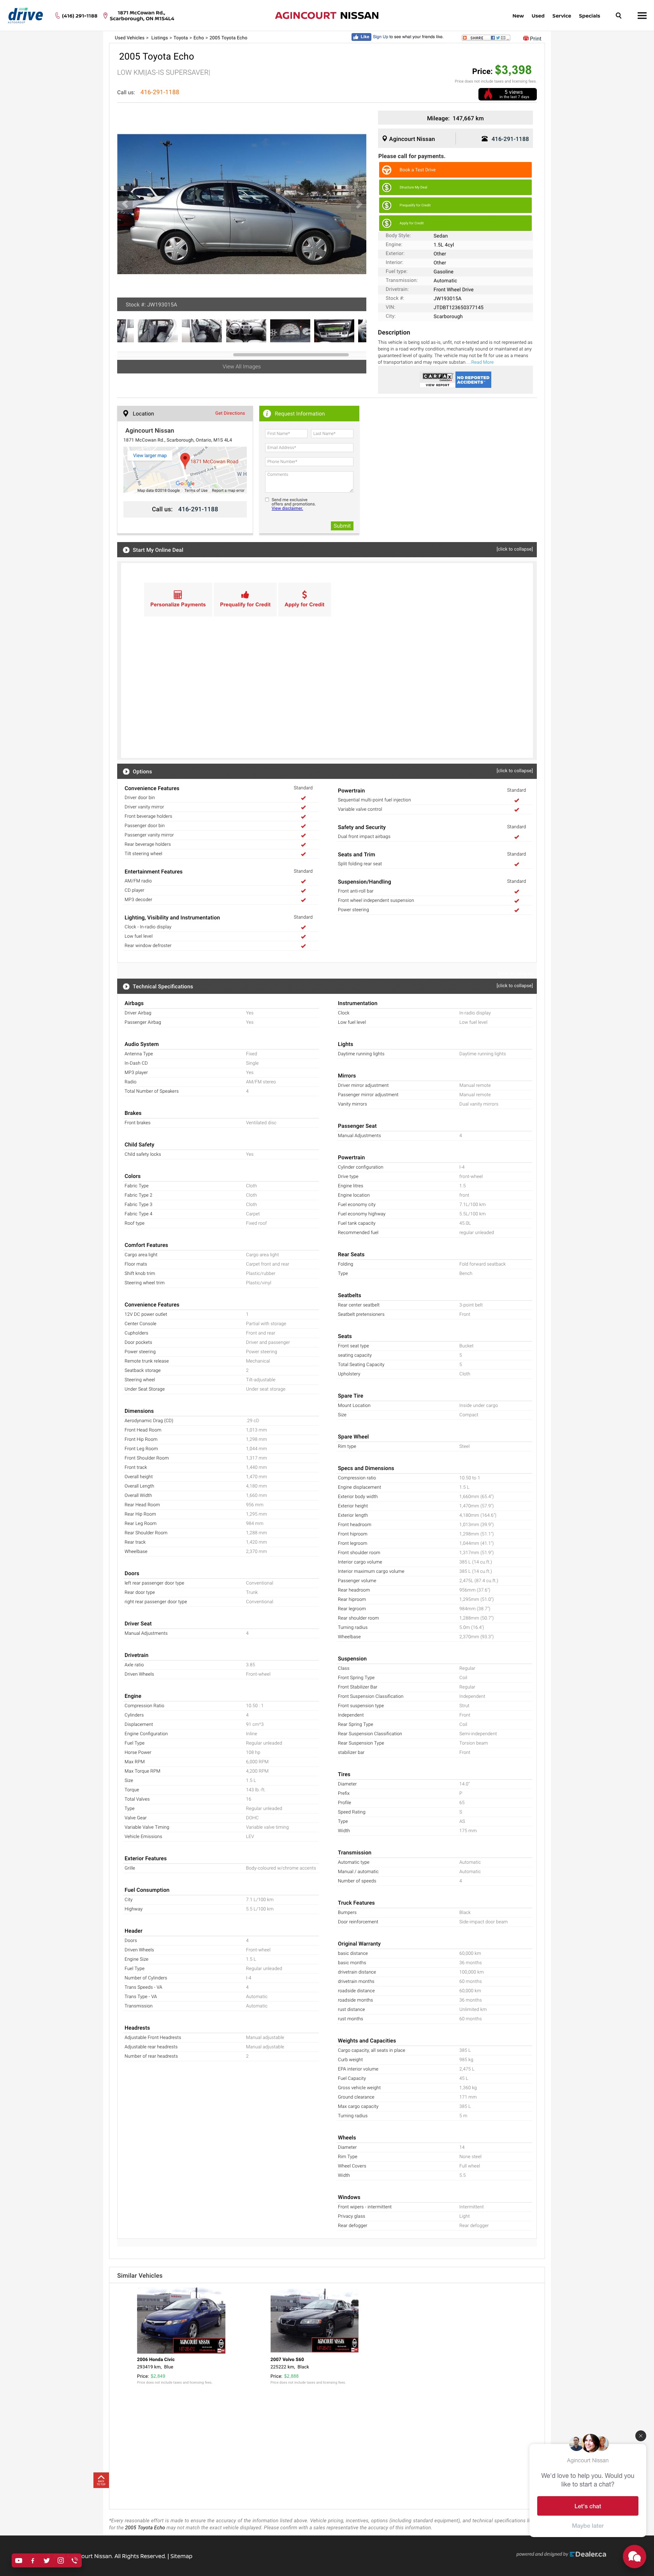car: (350, 195, 368, 214)
